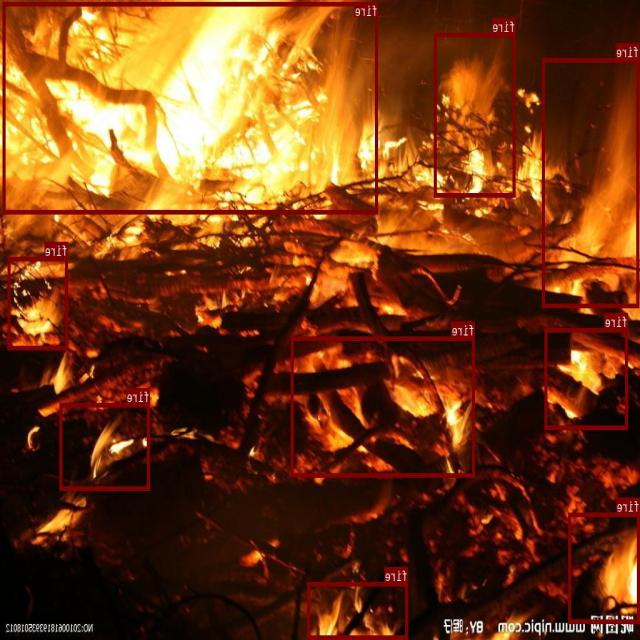fire: (4, 2, 378, 213), (292, 336, 476, 476), (543, 58, 640, 306), (434, 32, 516, 196), (546, 328, 628, 428), (569, 512, 640, 623), (60, 403, 151, 489), (308, 582, 408, 638), (9, 256, 68, 350)
